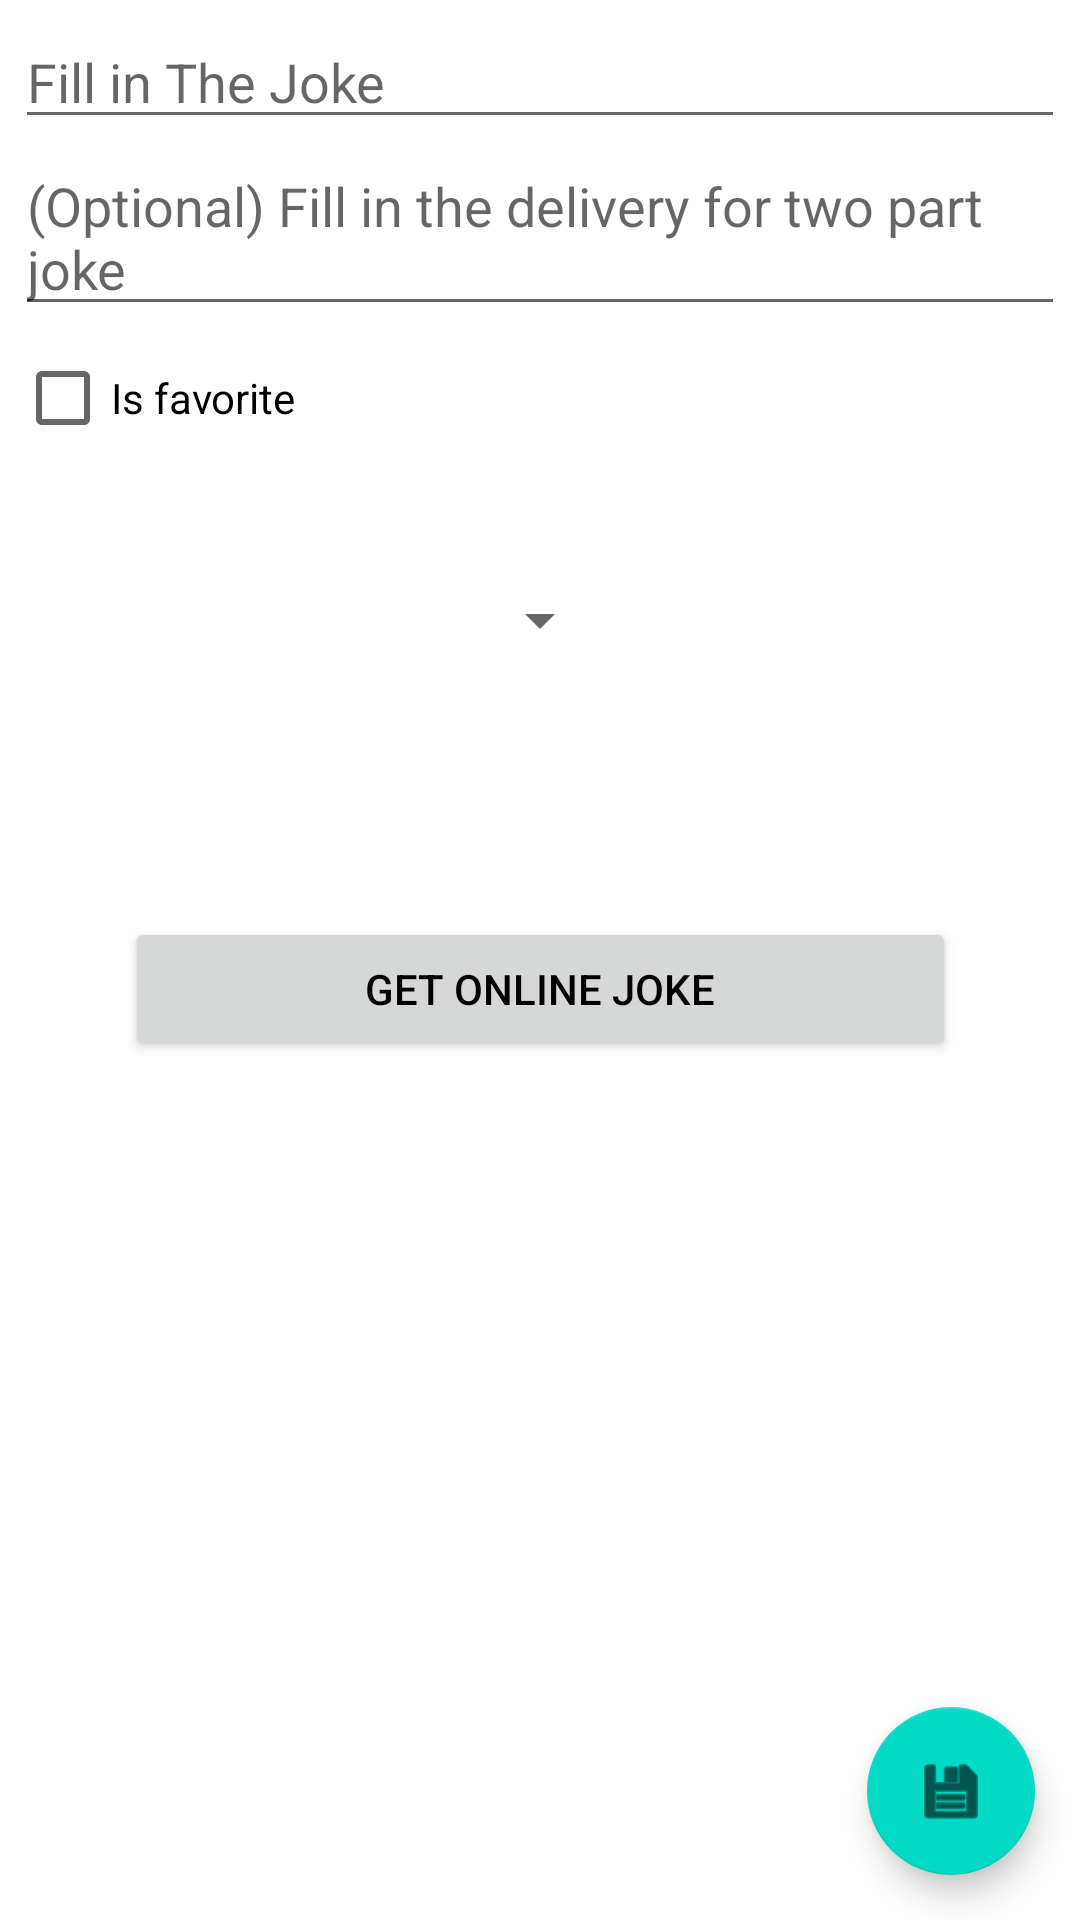

Icons on this 1080w x 1920h Android screen, each with its box as {"left": x1, "top": y1, "right": x2, "bottom": y2}:
save: {"left": 867, "top": 1707, "right": 1035, "bottom": 1875}
